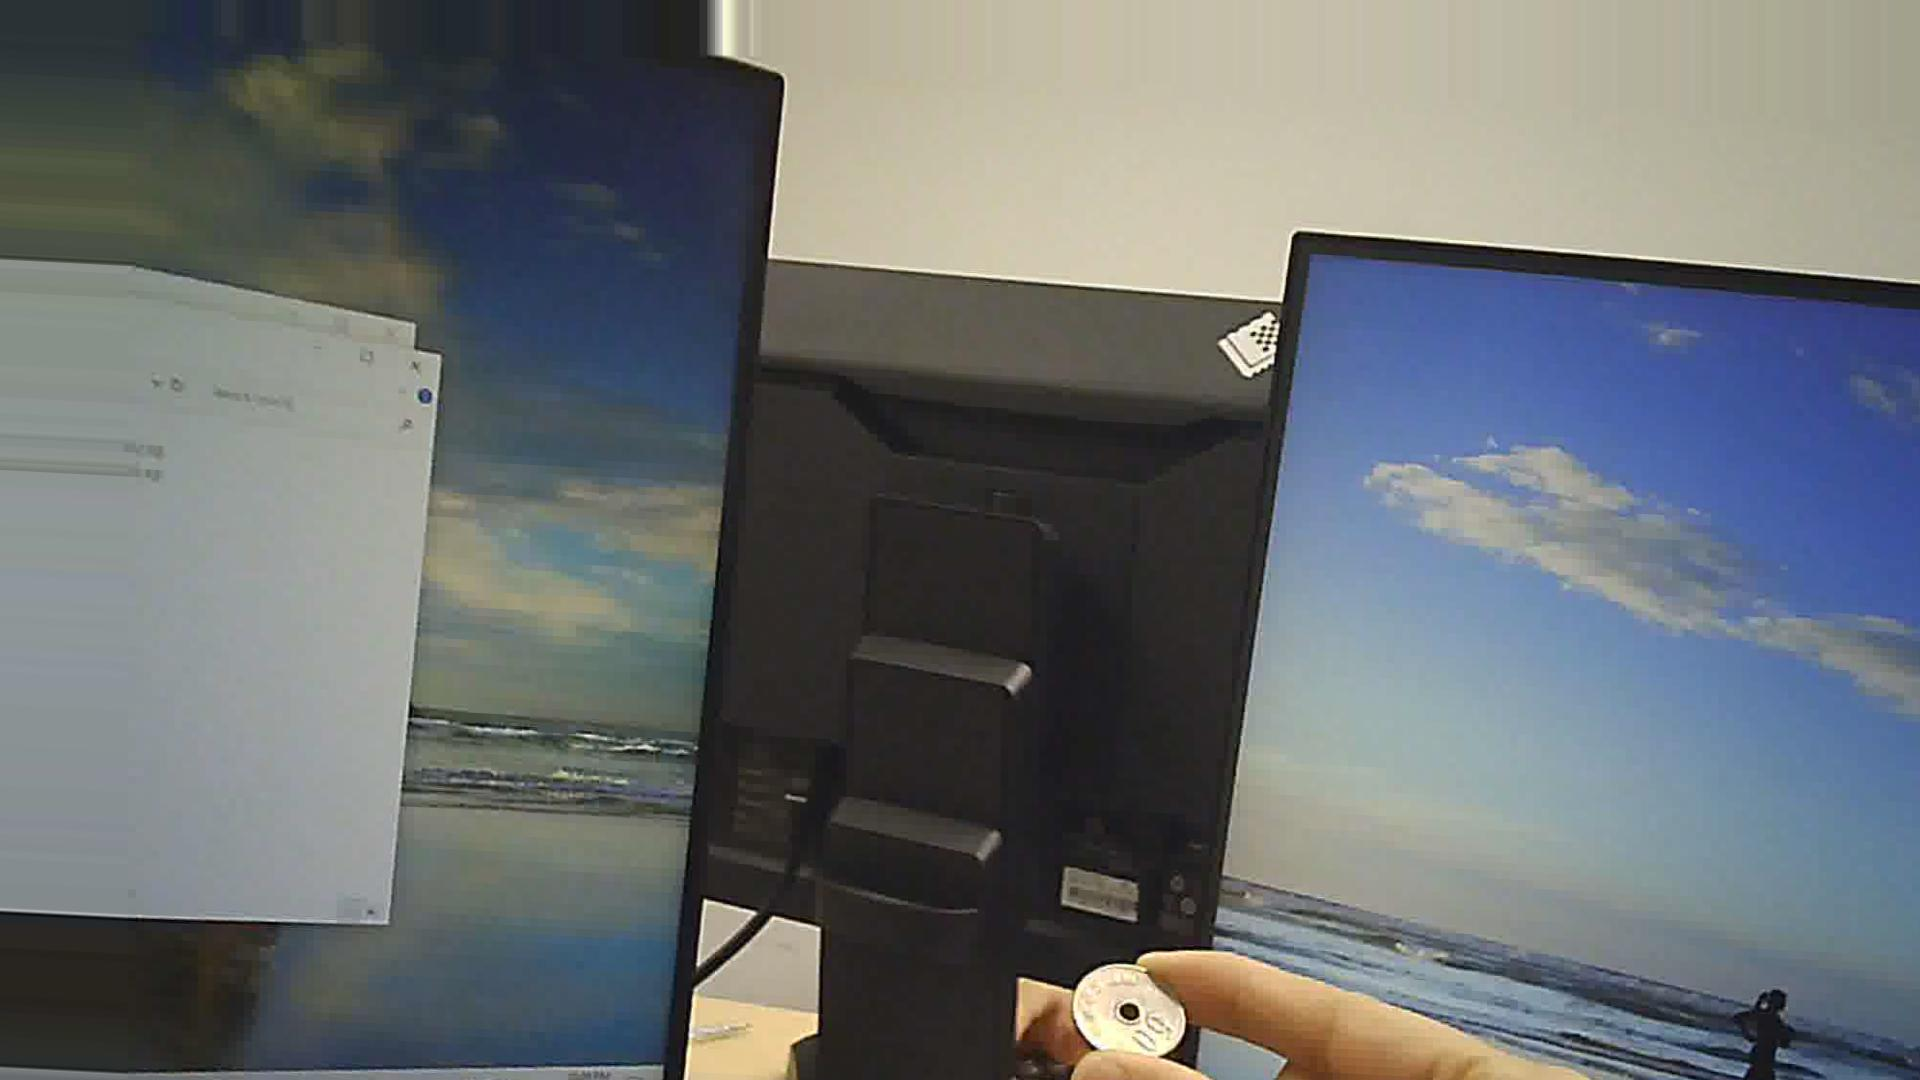50 Yen: (1069, 960, 1218, 1060)
